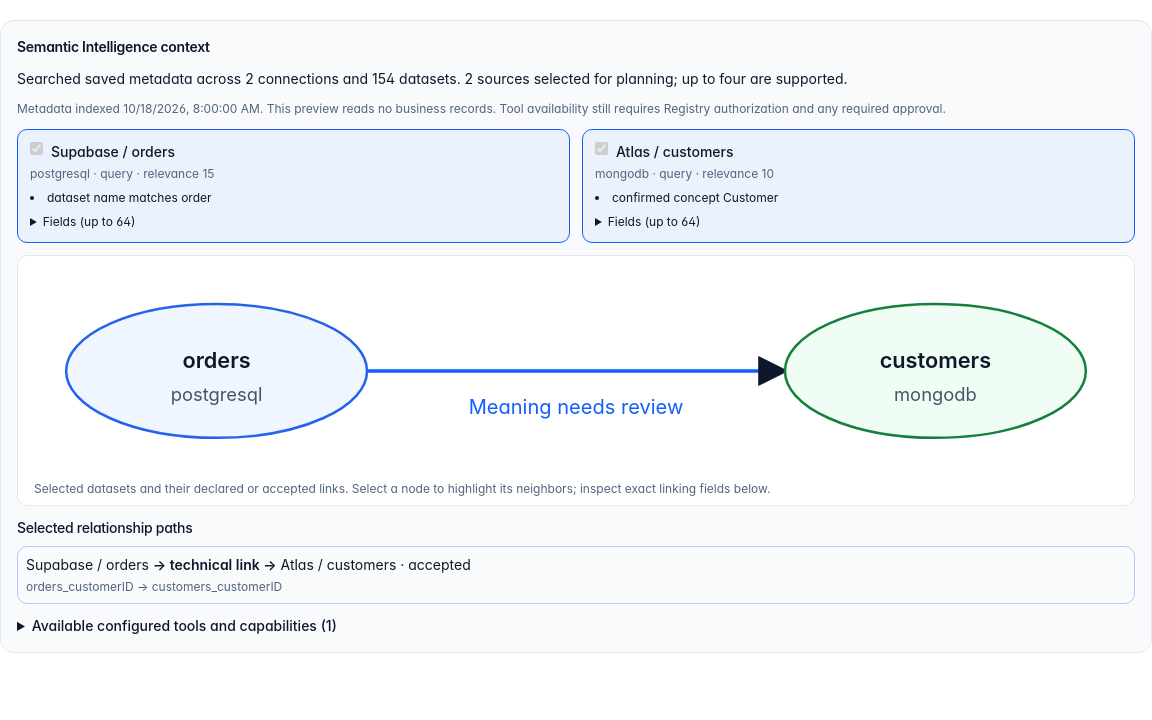
shows real shortlist reasons, source paths, field evidence, coverage and configured tools
This screenshot has width=1152, height=720.
Expected: the text "154 datasets" is shown, [17,70,848,87]
Expected: the list item "dataset name matches order" is shown, [47,190,212,205]
Click the heading "Available configured tools and capabilities (1)" at (184, 626), box [32,617,337,634]
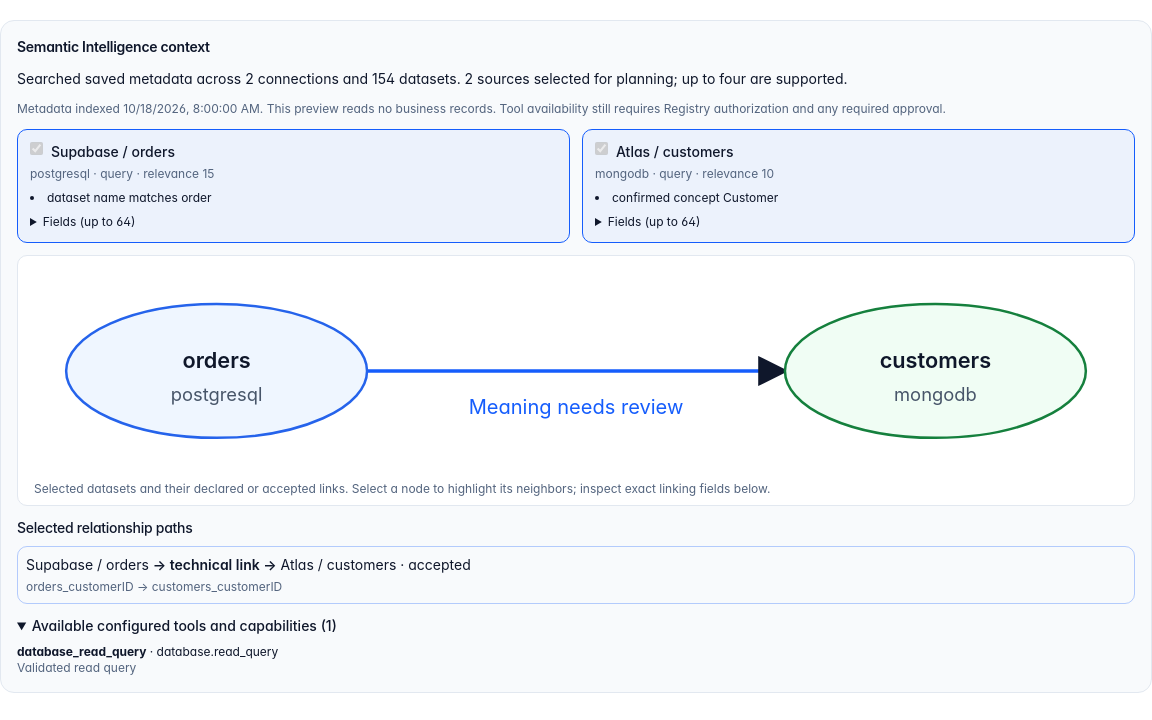
Now the text "database_read_query" is shown, box [17,644,146,659]
